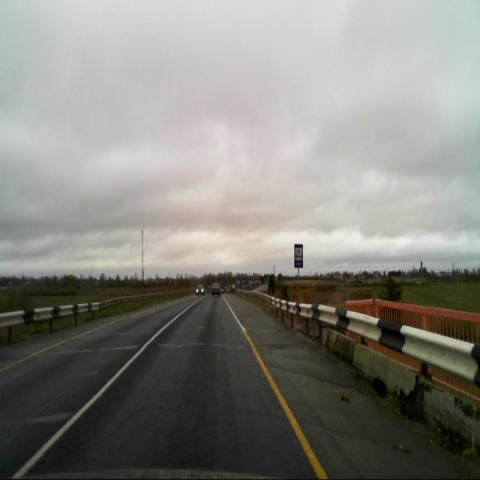7_2: (294, 243, 303, 269)
